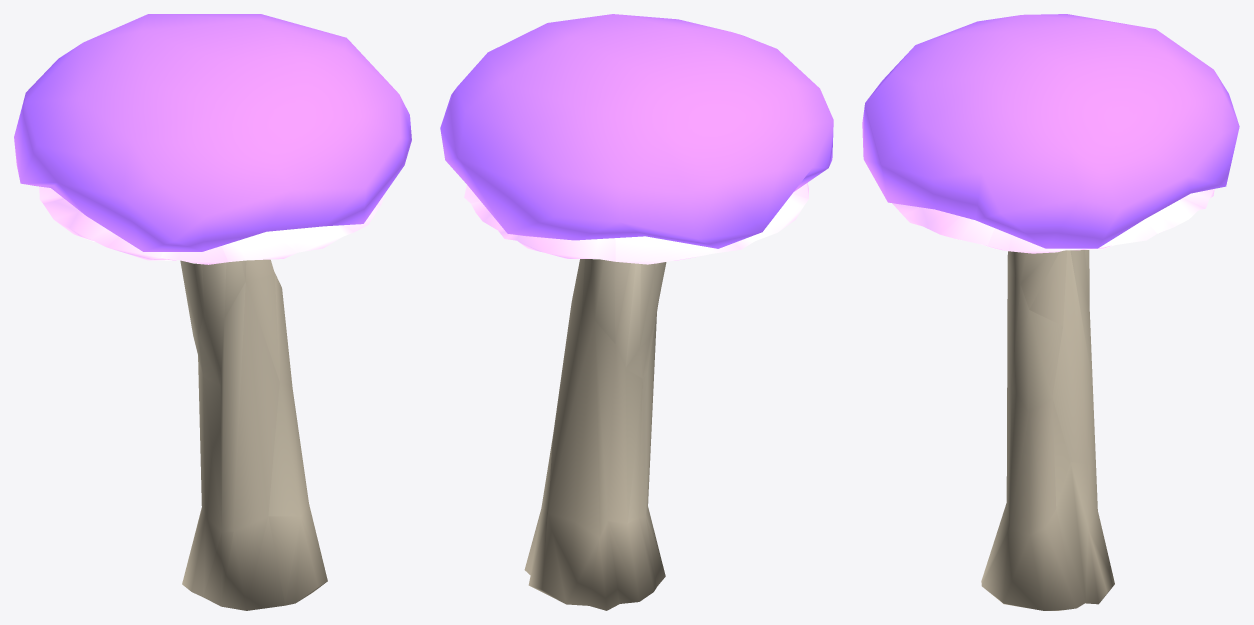
File: glade_mushroom_violet_lod2.glb
3 renders of one model, left to right at view 1: azimuth 30°, elevation 25°; view 2: azimuth 150°, elevation 25°; view 3: azimuth 270°, elevation 25°, orthographic. The views are drawn at different scales.
Parts seen in each view (by area): view 1: glade_mushroom_violet.001; view 2: glade_mushroom_violet.001; view 3: glade_mushroom_violet.001.
Boxes of the visible parts, x1,y1,x2,y2 form: glade_mushroom_violet.001: (14, 14, 411, 610); glade_mushroom_violet.001: (440, 14, 833, 610); glade_mushroom_violet.001: (862, 14, 1239, 610).
Bounding box in the file's own units: 8.34 × 12.94 × 8.35.
